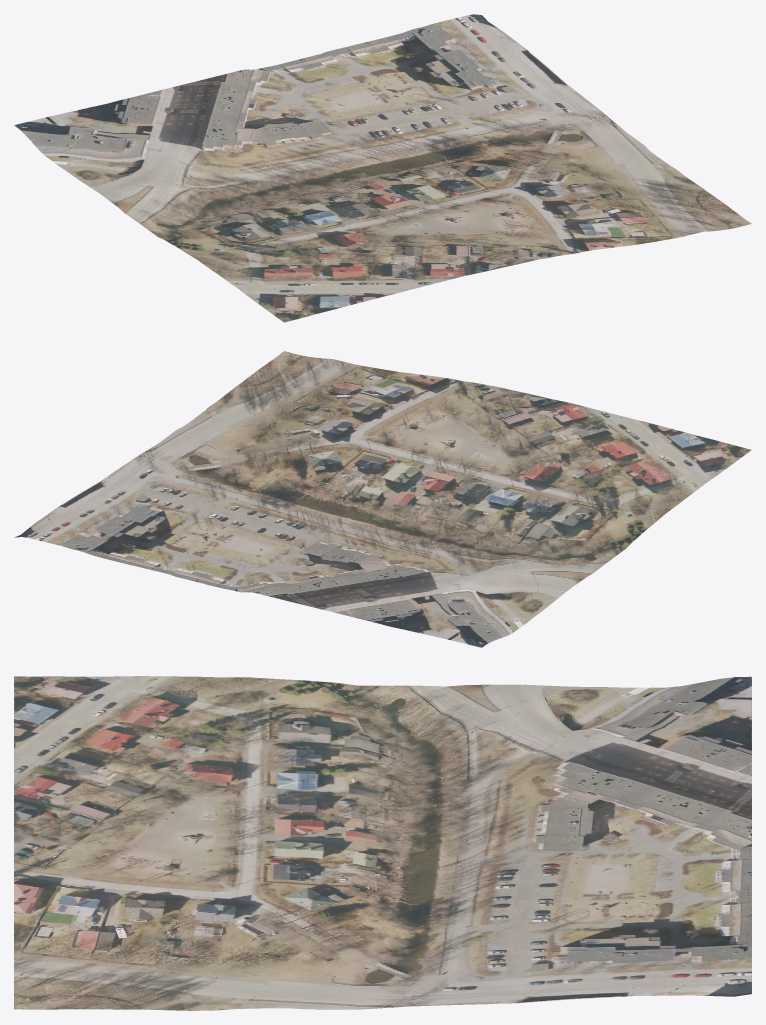
File: CM_Terrain_24488410_6819999.fbx
3 views of the same model, one above another, from view 1: azimuth 30°, elevation 25°; view 2: azimuth 150°, elevation 25°; view 3: azimuth 270°, elevation 25° (orthographic). The views are drawn at different scales.
Visible parts, largest first — view 1: CM_Terrain_24488410_6819999_LOD0; view 2: CM_Terrain_24488410_6819999_LOD0; view 3: CM_Terrain_24488410_6819999_LOD0.
Boxes of the visible parts, box(x1,y1,x2,y2) form: CM_Terrain_24488410_6819999_LOD0: box(14, 14, 751, 322); CM_Terrain_24488410_6819999_LOD0: box(15, 351, 751, 647); CM_Terrain_24488410_6819999_LOD0: box(14, 676, 751, 1010).
Size of what is drawn, in the model's own units: 205 by 8.62 by 205.
